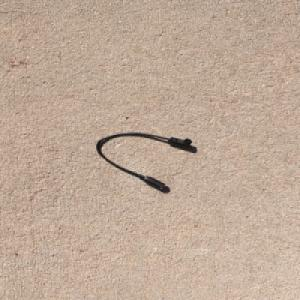Wire: (96, 131, 194, 189)
